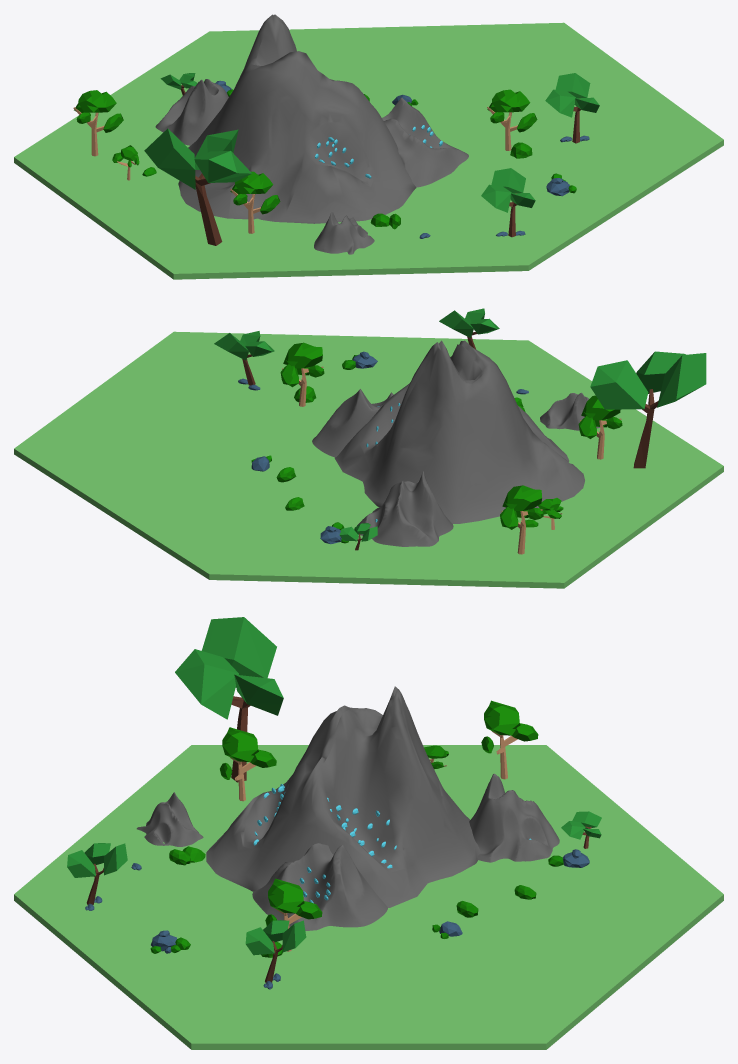
The model's file is Hexagone ressource diamand.fbx.
The picture shows the model from 3 angles, top to bottom: view 1: azimuth 30°, elevation 25°; view 2: azimuth 150°, elevation 25°; view 3: azimuth 270°, elevation 25°; orthographic projection. The views are drawn at different scales.
Parts seen in each view (by area): view 1: Cylindre.001, Landscape.008, Cube.047, Landscape.009, Landscape.001, Cube.062, Cube.018, Landscape.002, Icokugel.076, Icokugel.077, Icokugel.005, Icokugel.003 (+1 smaller); view 2: Cylindre.001, Landscape.008, Cube.047, Landscape.001, Landscape.009, Icokugel.076, Icokugel.077, Icokugel.005, Cube.062, Landscape.002, Cube.018, Cube.061; view 3: Cylindre.001, Landscape.008, Cube.047, Landscape.009, Landscape.001, Landscape.002, Cube.062, Icokugel.076, Cube.018, Icokugel.005, Icokugel.077, Cube.061.
Boxes of the visible parts, x1,y1,x2,y2 form: Cylindre.001: (14, 22, 723, 279); Landscape.008: (178, 14, 416, 223); Cube.047: (144, 128, 251, 245); Landscape.009: (382, 97, 468, 187); Landscape.001: (155, 79, 228, 145); Cube.062: (545, 73, 599, 143); Cube.018: (481, 168, 535, 237); Landscape.002: (314, 212, 374, 254); Icokugel.076: (73, 90, 123, 156); Icokugel.077: (487, 89, 537, 150); Icokugel.005: (230, 171, 280, 233); Icokugel.003: (546, 173, 576, 196); Cylindre.001: (14, 331, 723, 588); Landscape.008: (334, 340, 584, 523); Cube.047: (590, 351, 706, 468); Landscape.001: (357, 471, 453, 546); Landscape.009: (312, 389, 393, 457); Icokugel.076: (500, 485, 543, 554); Icokugel.077: (280, 342, 324, 406); Icokugel.005: (578, 395, 622, 459); Cube.062: (214, 331, 274, 390); Landscape.002: (540, 392, 599, 430); Cube.018: (439, 308, 499, 349); Cube.061: (339, 523, 377, 550); Cylindre.001: (14, 745, 723, 1049); Landscape.008: (206, 686, 480, 907); Cube.047: (175, 617, 283, 782); Landscape.009: (252, 843, 387, 930); Landscape.001: (469, 773, 559, 862); Landscape.002: (136, 792, 203, 846); Cube.062: (245, 920, 306, 989); Icokugel.076: (481, 700, 538, 779); Cube.018: (67, 843, 127, 910); Icokugel.005: (220, 727, 276, 801); Icokugel.077: (265, 878, 322, 951); Cube.061: (561, 811, 601, 848).
Bounding box in the file's own units: 2001 × 539 × 2011.
